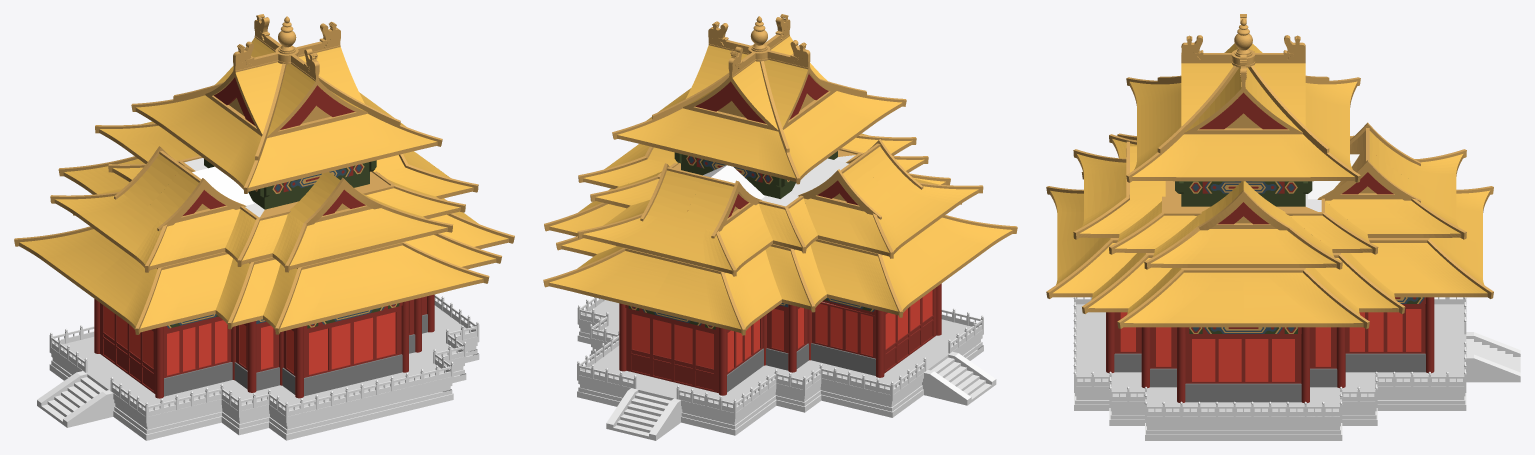
The model's file is JIAOLOU0718-12.fbx.
3 views of the same model, side by side, from view 1: azimuth 30°, elevation 25°; view 2: azimuth 150°, elevation 25°; view 3: azimuth 270°, elevation 25° (orthographic). The views are drawn at different scales.
Parts seen in each view (by area): view 1: Group173, G_1_1, G_22_4, G_22_1_1, Group5, G_2_1, G_22_1_2, G_2_2, Group218, G_1_4, Top1, Top2_6 (+42 smaller); view 2: G_22_2, G_1_3, G_1_4, Group173, G_22_1, Group5, G_1_2, G_22_3, G_1_1, Top2, Top2_5, G_22_4 (+41 smaller); view 3: Group173, Group5, G_1_2, G_22_1_3, G_22_1_4, G_22_3, G_2_3, G_2_4, Group218, Top3, G_2_2, Top2_1 (+49 smaller).
Part boxes in pixels (x1,y1,x2,y2): Group173: [49, 336, 479, 440]; G_1_1: [106, 166, 264, 270]; G_22_4: [84, 252, 249, 332]; G_22_1_1: [232, 258, 378, 332]; Group5: [51, 305, 476, 416]; G_2_1: [242, 172, 365, 269]; G_22_1_2: [352, 235, 496, 307]; G_2_2: [341, 184, 460, 251]; Group218: [164, 314, 427, 396]; G_1_4: [54, 154, 207, 237]; Top1: [267, 64, 367, 138]; Top2_6: [317, 113, 437, 165]; G_22_2: [648, 246, 810, 332]; G_1_3: [661, 165, 801, 274]; G_1_4: [780, 158, 930, 256]; Group173: [577, 319, 983, 435]; G_22_1: [794, 240, 951, 315]; Group5: [579, 300, 982, 412]; G_1_2: [582, 165, 726, 256]; G_22_3: [548, 238, 672, 310]; G_1_1: [834, 146, 979, 225]; Top2: [683, 61, 778, 131]; Top2_5: [617, 108, 730, 157]; G_22_4: [912, 217, 1012, 275]; Group173: [1074, 387, 1466, 440]; Group5: [1076, 304, 1466, 416]; G_1_2: [1305, 148, 1461, 242]; G_22_1_3: [1243, 258, 1398, 327]; G_22_1_4: [1088, 258, 1243, 327]; G_22_3: [1341, 237, 1487, 299]; G_2_3: [1243, 181, 1372, 267]; G_2_4: [1114, 181, 1243, 267]; Group218: [1114, 353, 1425, 402]; Top3: [1184, 67, 1302, 134]; G_2_2: [1079, 146, 1181, 241]; Top2_1: [1243, 134, 1355, 181].
Size of the model in its own units: 0.00856 by 0.00856 by 0.00698.
